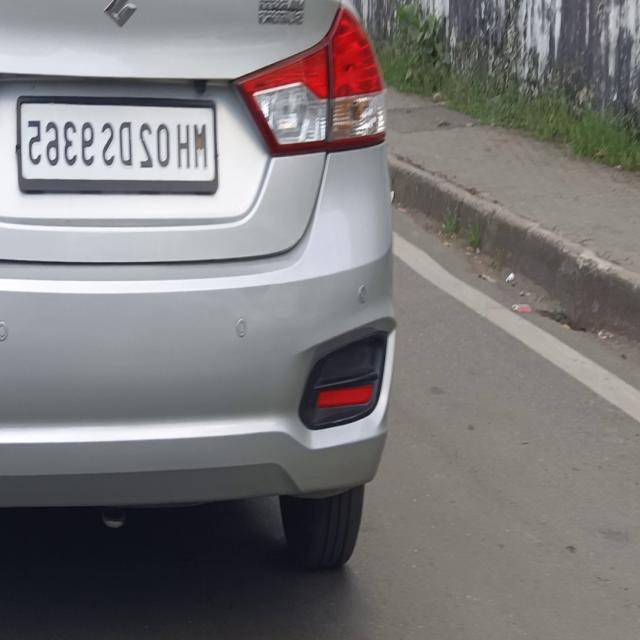license_plate: (12, 86, 223, 209)
